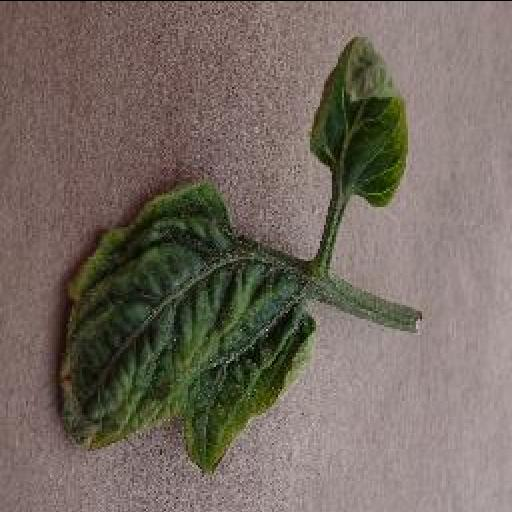disease_tomato: (54, 178, 314, 468), (308, 36, 410, 206)
